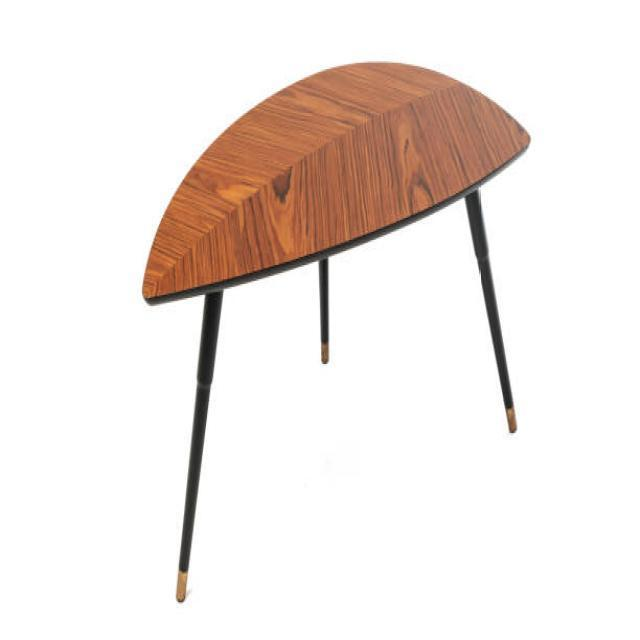table: (141, 60, 531, 602)
